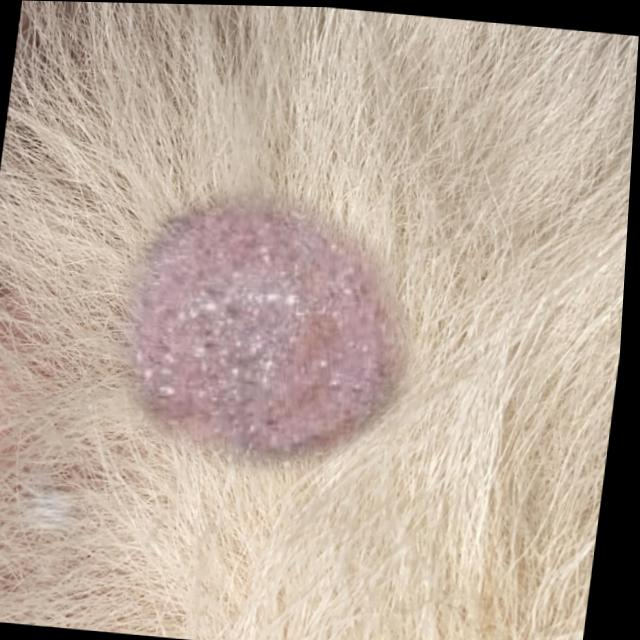ringworm: (73, 174, 435, 502)
